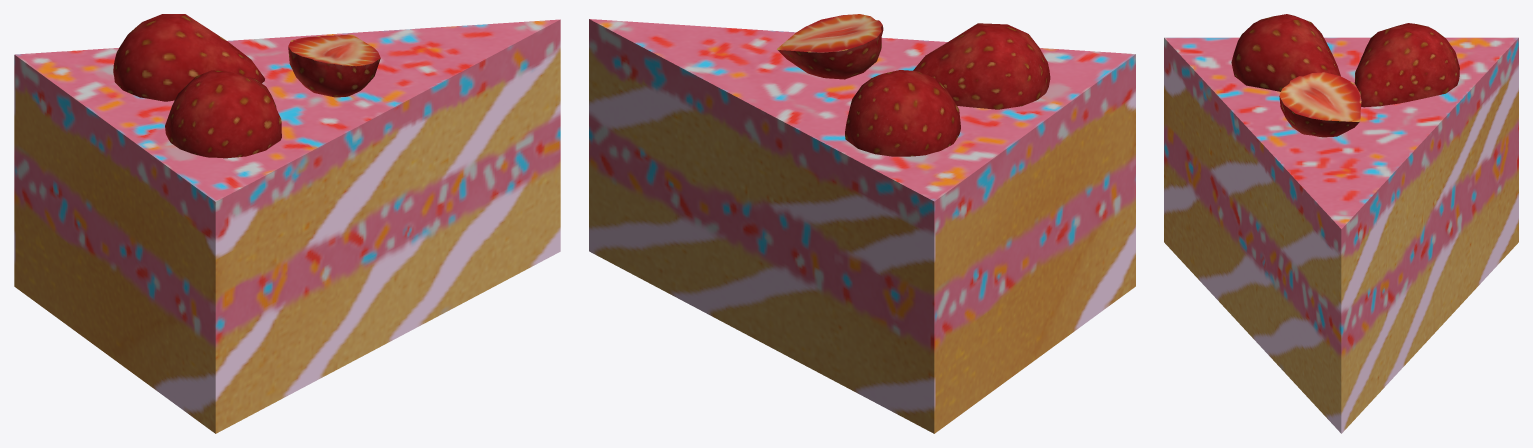
File: Cake_B.glb
3 views of the same model, side by side, from view 1: azimuth 30°, elevation 25°; view 2: azimuth 150°, elevation 25°; view 3: azimuth 270°, elevation 25° (orthographic). The views are drawn at different scales.
Parts seen in each view (by area): view 1: Cake_B; view 2: Cake_B; view 3: Cake_B.
Boxes of the visible parts, bbox=[...] form: Cake_B: bbox=[14, 14, 560, 433]; Cake_B: bbox=[589, 14, 1135, 433]; Cake_B: bbox=[1164, 14, 1518, 433].
Size of the model in its own units: 0.5769 by 0.3589 by 0.4514.
1 material, 1 textured.
